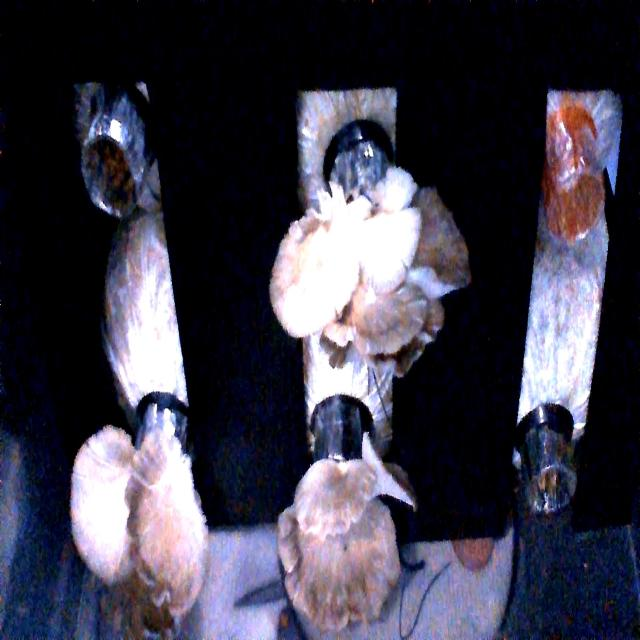big: (262, 136, 475, 376), (264, 427, 430, 624), (79, 394, 210, 618)
nfound: (513, 370, 587, 534), (65, 122, 156, 254), (543, 129, 618, 263)
